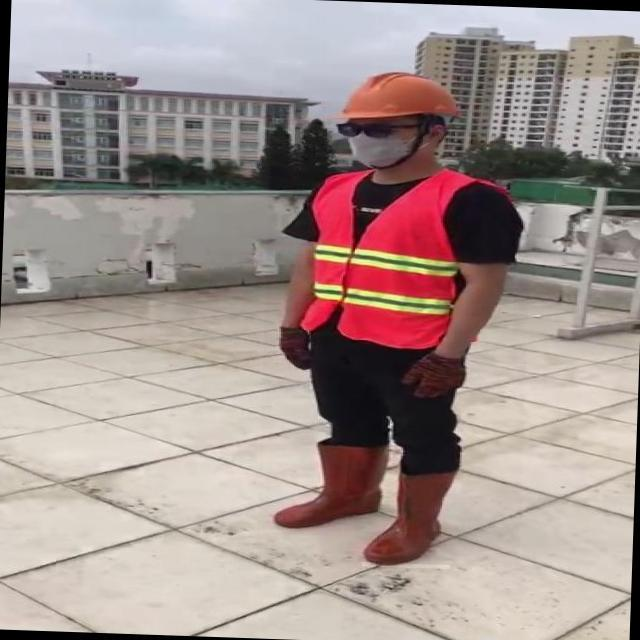Gloves: (397, 352, 468, 397), (275, 326, 313, 371)
Helmet: (332, 64, 460, 126)
Human: (256, 62, 536, 567)
Safety Boot: (272, 440, 387, 531), (361, 469, 453, 569)
Safety Vest: (302, 166, 472, 348)
